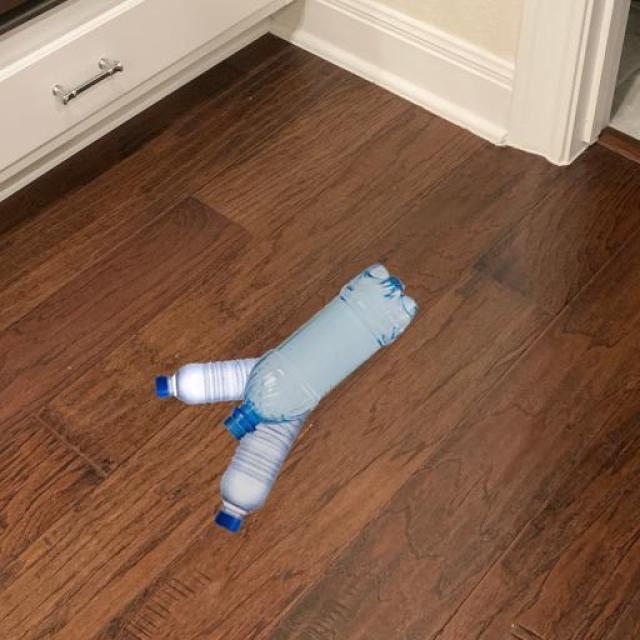bottle: (222, 247, 414, 443), (208, 402, 306, 542), (147, 349, 263, 413)
